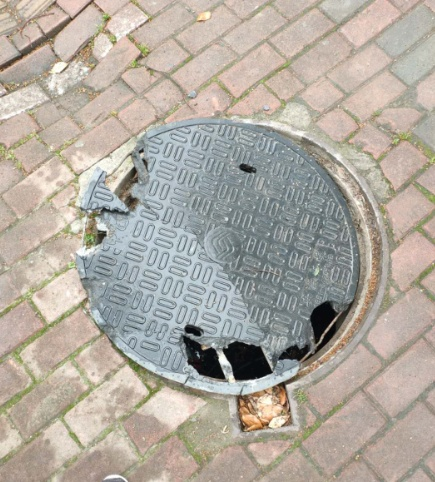broke: (75, 118, 391, 434)
